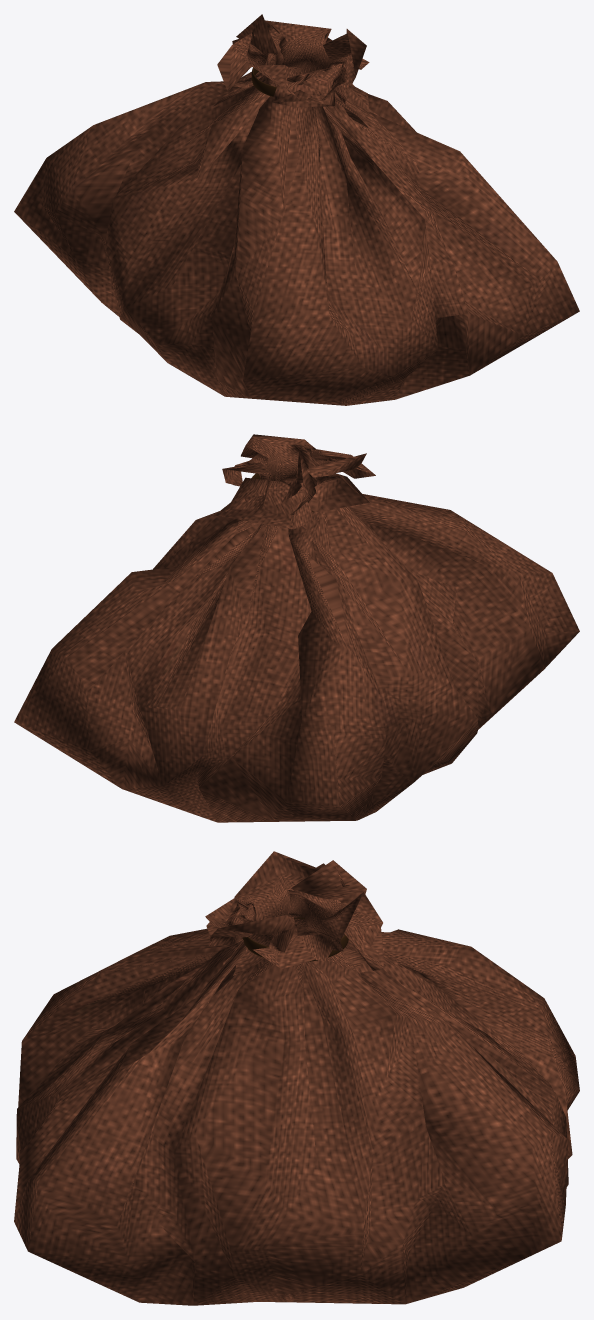
The model's file is bag.gltf.
3 renders of one model, top to bottom at view 1: azimuth 30°, elevation 25°; view 2: azimuth 150°, elevation 25°; view 3: azimuth 270°, elevation 25°, orthographic. The views are drawn at different scales.
Parts seen in each view (by area): view 1: Cube; view 2: Cube; view 3: Cube.
Boxes of the visible parts, left/top/right/bottom form: Cube: left=14, top=14, right=579, bottom=405; Cube: left=14, top=434, right=579, bottom=822; Cube: left=14, top=851, right=579, bottom=1305.
Size of the model in its own units: 2.8 by 2.55 by 3.37.
Materials: 2 (1 with a texture image).
